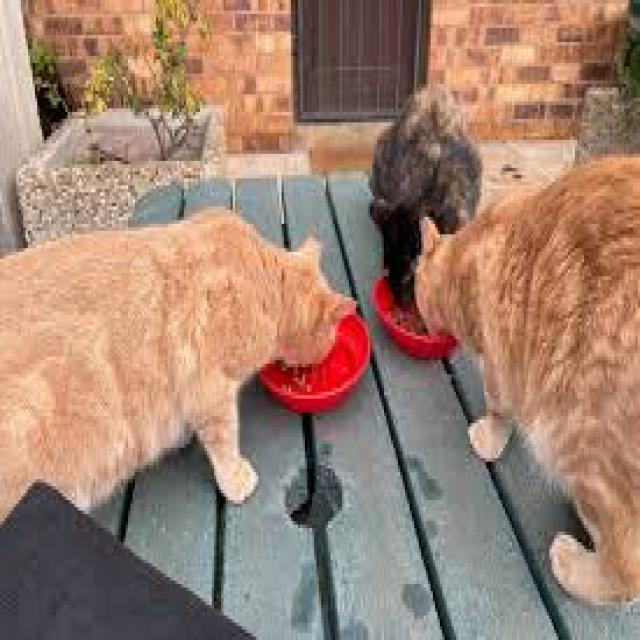cat: (1, 210, 354, 521), (416, 157, 640, 602), (370, 86, 481, 303)
